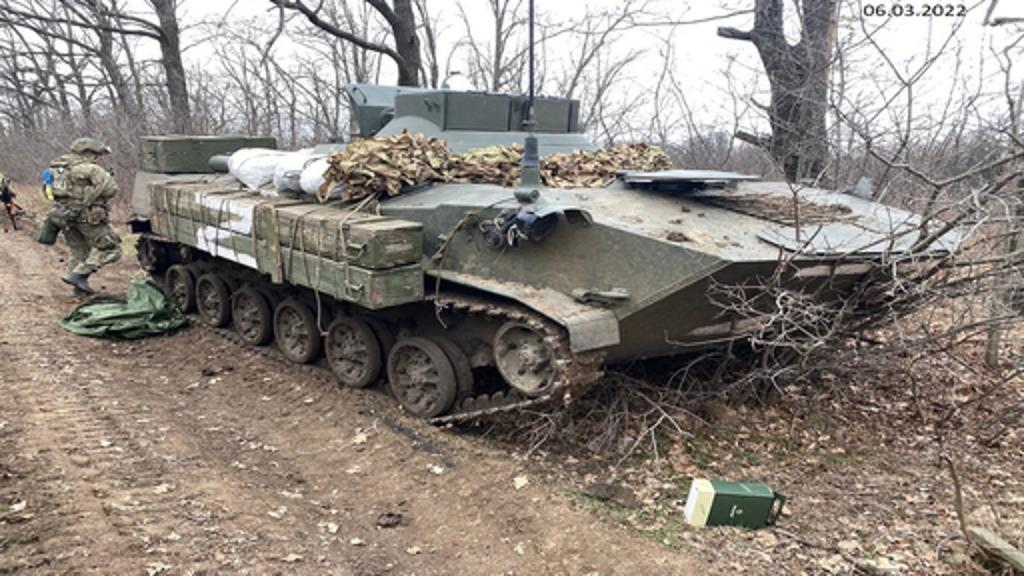APC-IFV: (126, 80, 956, 434)
